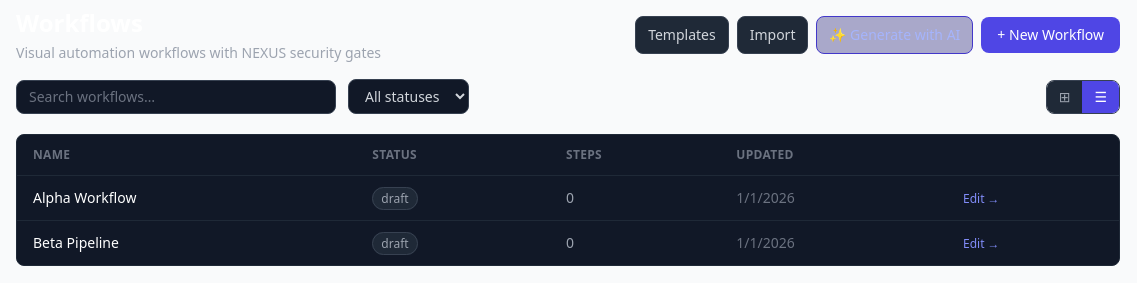
Scenario: Workflow list page › WL4: Search input filters results
Expected: the text "Alpha Workflow" is shown, left=17, top=176, right=356, bottom=220
Expected: the text "Beta Pipeline" is shown, left=17, top=220, right=356, bottom=265
Type "Alpha" into the field with placeholder "Search workflows…" at x=176, y=96, box left=16, top=80, right=336, bottom=114
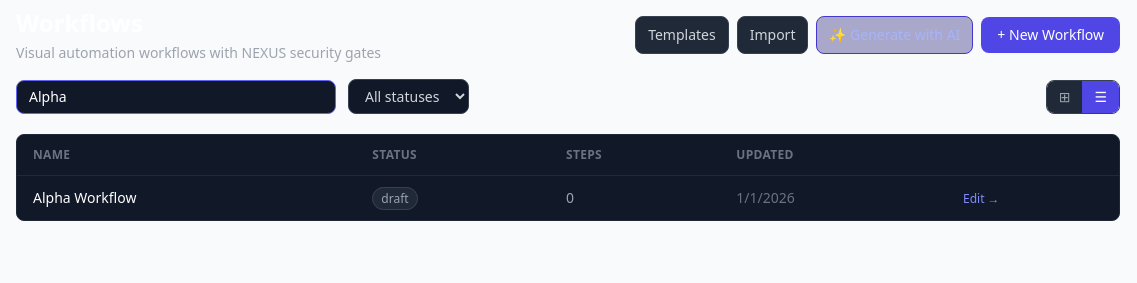
Expected: the text "Alpha Workflow" is shown, left=17, top=176, right=356, bottom=220
Expected: the text "Beta Pipeline" is gone
